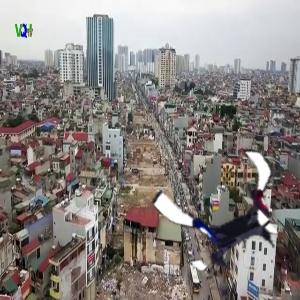drone: (161, 143, 296, 278)
